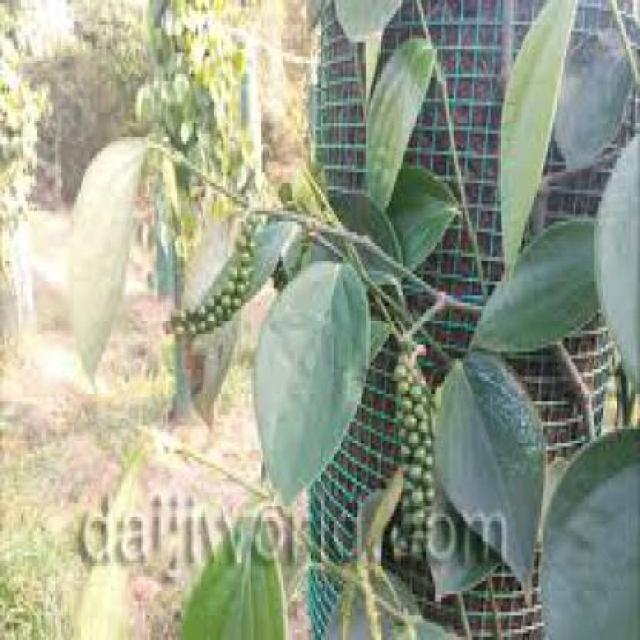UNRIPE: (157, 183, 255, 348), (387, 326, 436, 552)
